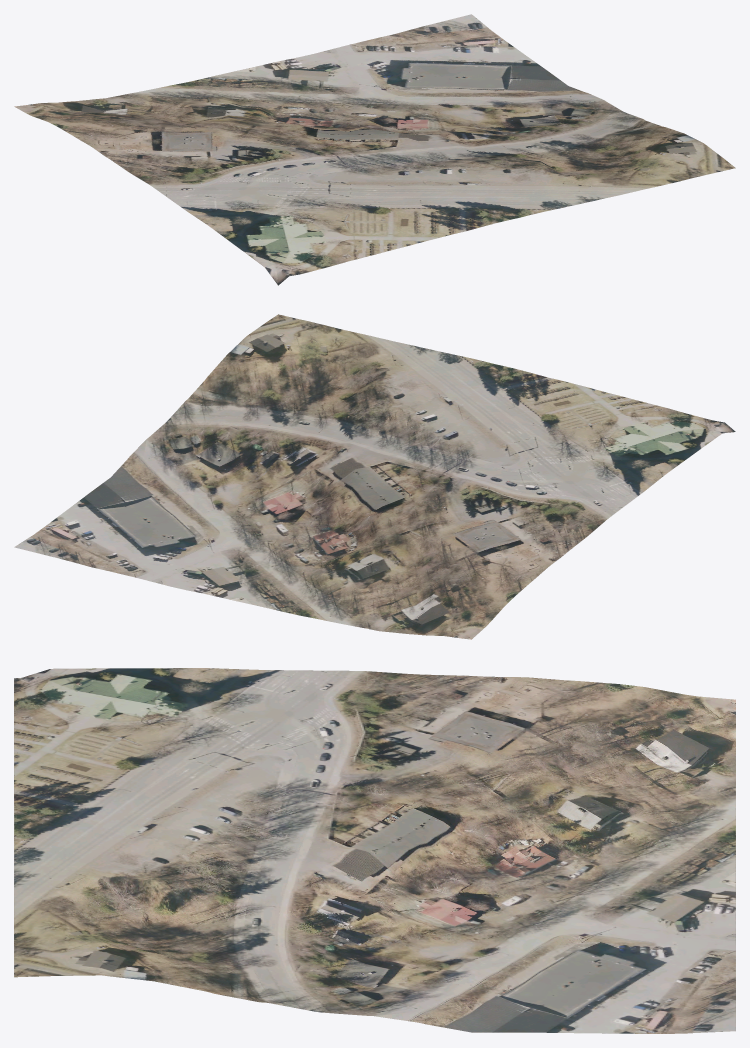
File: CM_Terrain_24491892_6819384.fbx
3 renders of one model, top to bottom at view 1: azimuth 30°, elevation 25°; view 2: azimuth 150°, elevation 25°; view 3: azimuth 270°, elevation 25°, orthographic. The views are drawn at different scales.
Parts seen in each view (by area): view 1: CM_Terrain_24491892_6819384_LOD0; view 2: CM_Terrain_24491892_6819384_LOD0; view 3: CM_Terrain_24491892_6819384_LOD0.
Boxes of the visible parts, box(x1,y1,x2,y2) form: CM_Terrain_24491892_6819384_LOD0: box(14, 14, 735, 285); CM_Terrain_24491892_6819384_LOD0: box(14, 314, 735, 639); CM_Terrain_24491892_6819384_LOD0: box(14, 668, 735, 1033).
Size of what is drawn, in the model's own units: 205 by 19.73 by 205.
